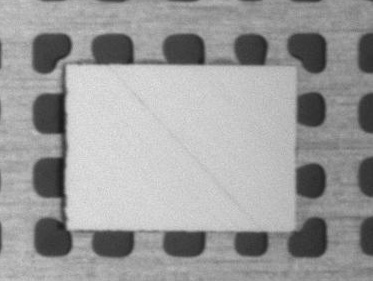DIE_CRACK: (107, 64, 256, 224)
